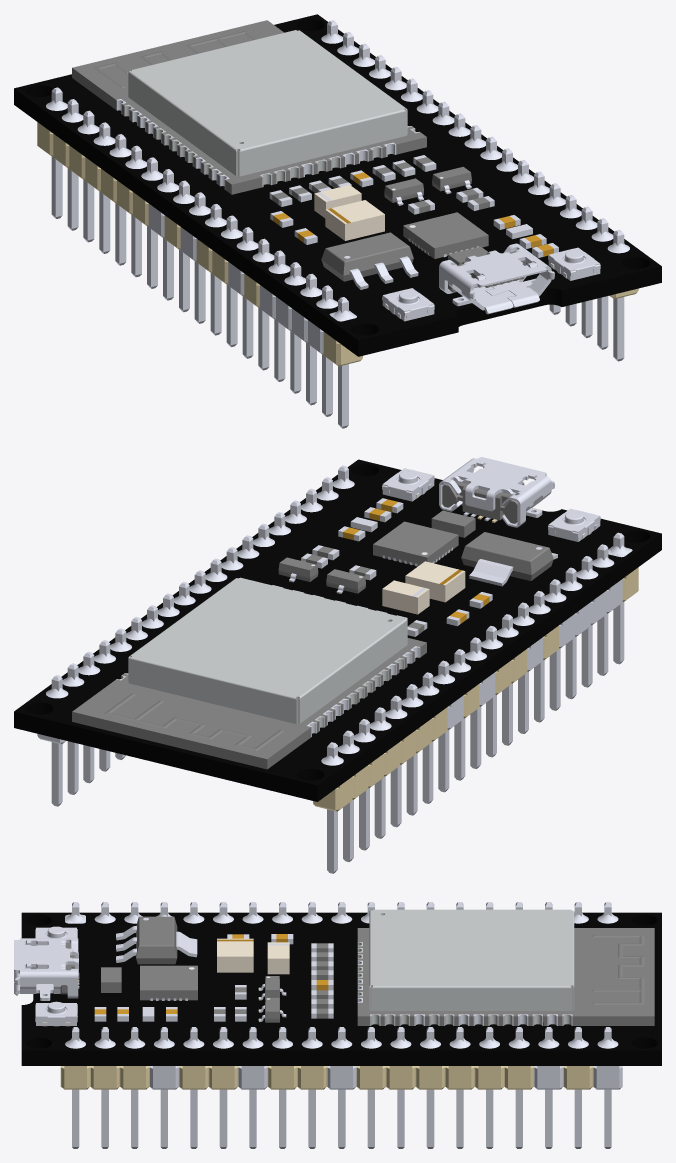
The model's file is board.glb.
3 renders of one model, top to bottom at view 1: azimuth 30°, elevation 25°; view 2: azimuth 150°, elevation 25°; view 3: azimuth 270°, elevation 25°, orthographic. The views are drawn at different scales.
Visible parts, largest first — view 1: board.STEP-1, ESP32.STEP-1, header_2nd.STEP-1, header.STEP-1, other_ESP32 NodeMCU.STEP-1, micro usb.STEP-1, AMS1117-3.3.STEP-1, CP2102.STEP-1, button.STEP-1, button.STEP-2, sot-23-3.STEP-1, sot-23-3.STEP-2; view 2: board.STEP-1, ESP32.STEP-1, header_2nd.STEP-1, header.STEP-1, other_ESP32 NodeMCU.STEP-1, micro usb.STEP-1, AMS1117-3.3.STEP-1, CP2102.STEP-1, button.STEP-2, button.STEP-1, sot-23-3.STEP-2, sot-23-3.STEP-1; view 3: board.STEP-1, ESP32.STEP-1, header.STEP-1, other_ESP32 NodeMCU.STEP-1, micro usb.STEP-1, header_2nd.STEP-1, AMS1117-3.3.STEP-1, CP2102.STEP-1, button.STEP-2, button.STEP-1, sot-23-3.STEP-2, sot-23-3.STEP-1.
Boxes of the visible parts, <box> form: board.STEP-1: <box>14,14,661,356</box>; ESP32.STEP-1: <box>72,20,426,194</box>; header_2nd.STEP-1: <box>37,87,362,428</box>; header.STEP-1: <box>321,20,638,361</box>; other_ESP32 NodeMCU.STEP-1: <box>269,155,558,265</box>; micro usb.STEP-1: <box>439,243,554,314</box>; AMS1117-3.3.STEP-1: <box>321,232,418,289</box>; CP2102.STEP-1: <box>403,212,488,258</box>; button.STEP-1: <box>382,288,434,321</box>; button.STEP-2: <box>548,247,600,280</box>; sot-23-3.STEP-1: <box>384,178,423,205</box>; sot-23-3.STEP-2: <box>432,166,471,193</box>; board.STEP-1: <box>14,459,661,801</box>; ESP32.STEP-1: <box>72,577,426,769</box>; header_2nd.STEP-1: <box>313,532,638,873</box>; header.STEP-1: <box>37,465,354,806</box>; other_ESP32 NodeMCU.STEP-1: <box>272,498,492,636</box>; micro usb.STEP-1: <box>439,457,554,527</box>; AMS1117-3.3.STEP-1: <box>461,532,557,586</box>; CP2102.STEP-1: <box>373,521,458,566</box>; button.STEP-2: <box>382,468,434,501</box>; button.STEP-1: <box>548,508,600,541</box>; sot-23-3.STEP-2: <box>278,557,318,582</box>; sot-23-3.STEP-1: <box>326,569,365,593</box>; board.STEP-1: <box>21,912,661,1065</box>; ESP32.STEP-1: <box>357,909,654,1025</box>; header.STEP-1: <box>60,1027,622,1148</box>; other_ESP32 NodeMCU.STEP-1: <box>94,934,333,1021</box>; micro usb.STEP-1: <box>14,938,79,1000</box>; header_2nd.STEP-1: <box>65,902,618,923</box>; AMS1117-3.3.STEP-1: <box>116,916,197,964</box>; CP2102.STEP-1: <box>140,965,197,1000</box>; button.STEP-2: <box>35,1001,77,1026</box>; button.STEP-1: <box>35,926,77,938</box>; sot-23-3.STEP-2: <box>258,997,286,1022</box>; sot-23-3.STEP-1: <box>258,976,286,1000</box>.
Bounding box in the file's own units: 0.028 × 0.0131 × 0.0557.
